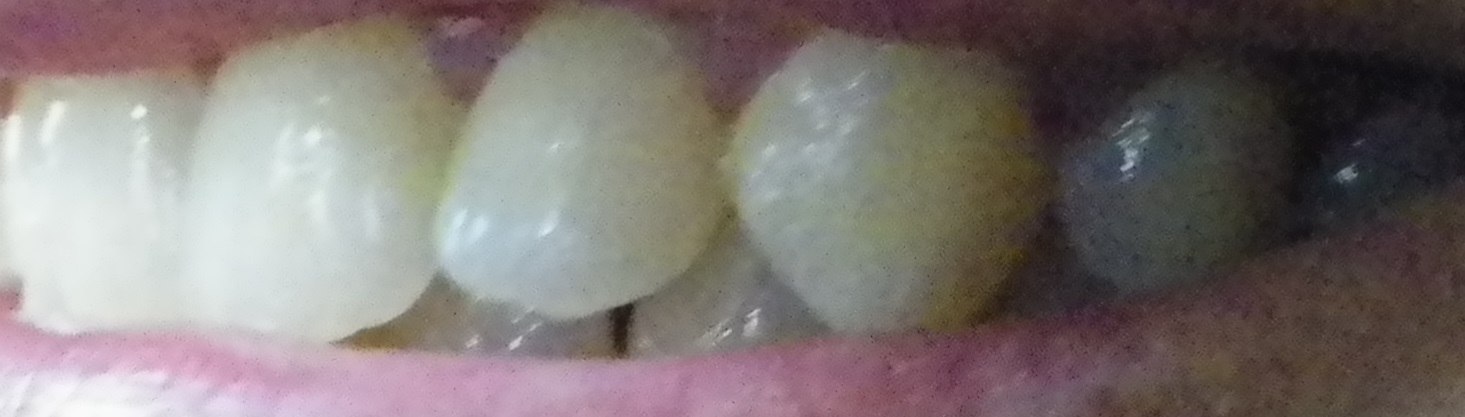boca: (5, 38, 1411, 360)
